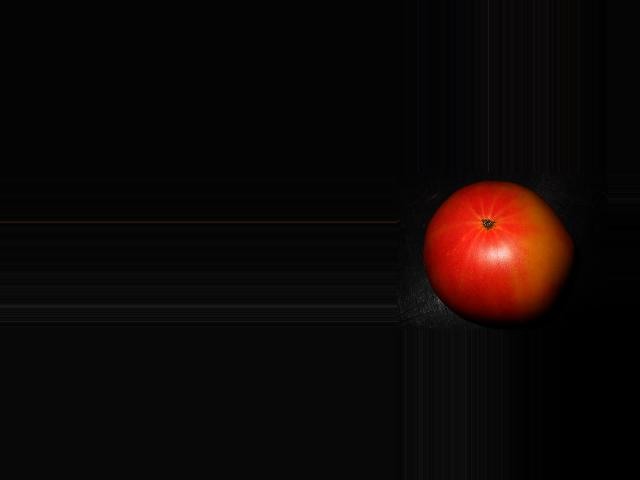tomato: (423, 181, 573, 325)
